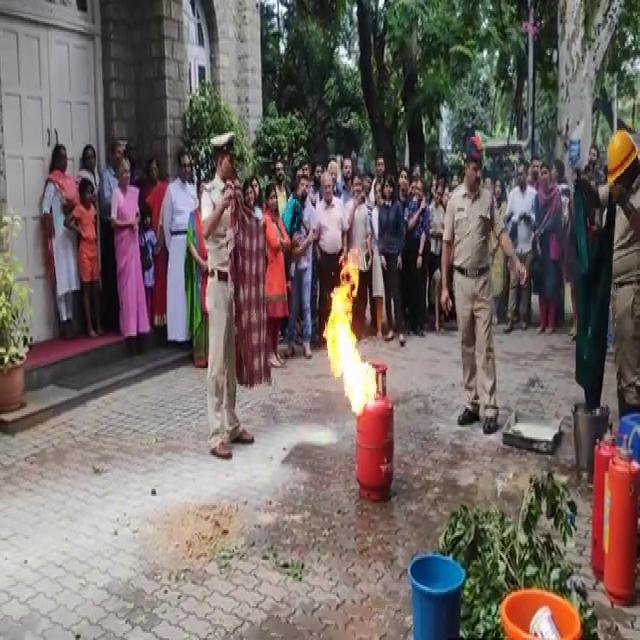fire: (316, 271, 389, 412)
